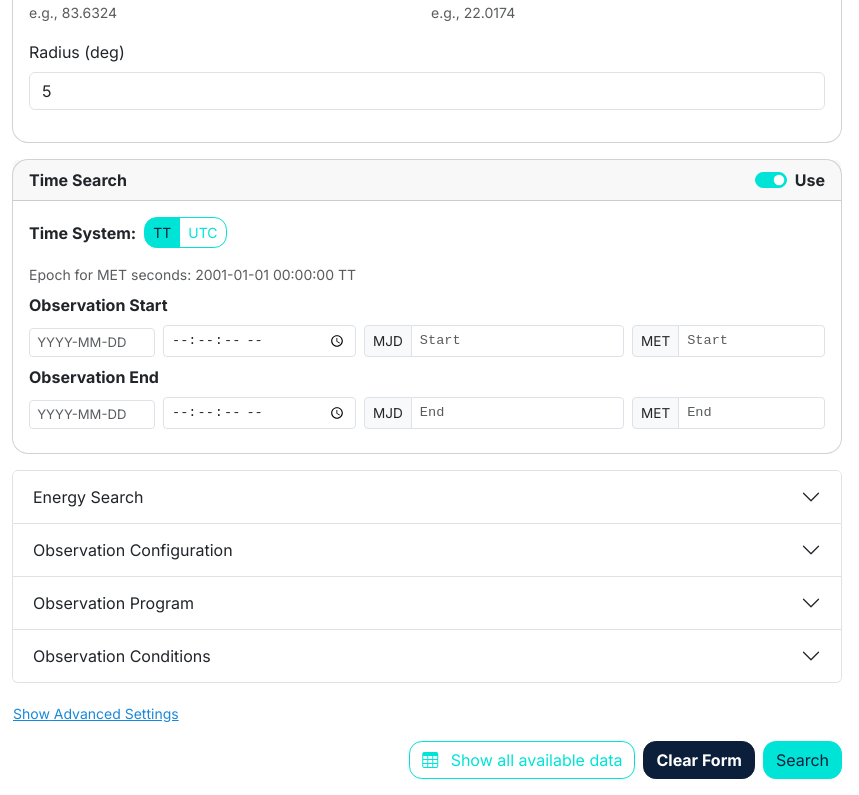
Test case: SearchForm › clear form resets TAP fields to backend configured defaults
(page scrolled)
Click the button "Show Advanced Settings".
click(96, 713)  # box [12,702,180,725]
(page scrolled)
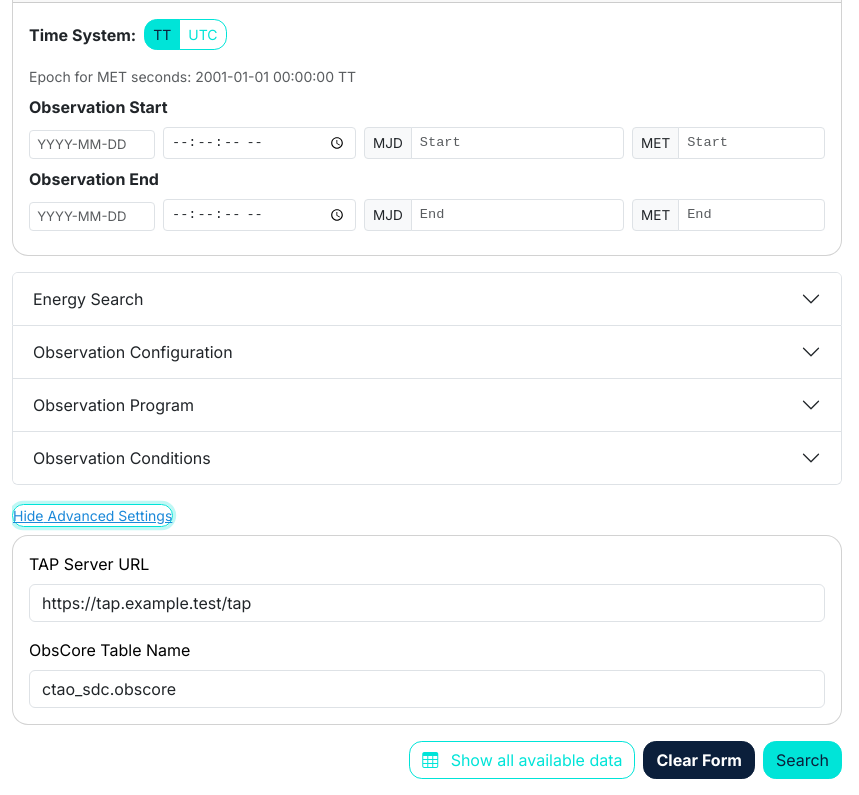
Result: the field labelled "TAP Server URL" holds "https://tap.example.test/tap"
Result: the field labelled "ObsCore Table Name" holds "ctao_sdc.obscore" at [29,670,825,708]
Replace the text in the field labelled "TAP Server URL" with "https://custom.example.test/tap" at coordinates (427, 603), box [29,584,825,622]
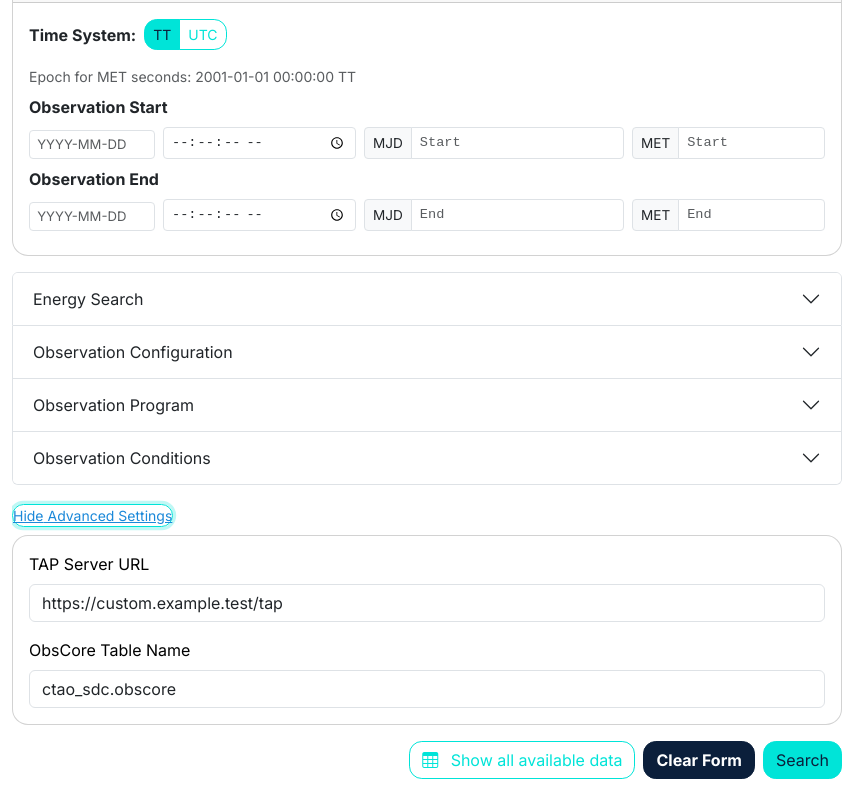
Replace the text in the field labelled "ObsCore Table Name" with "custom.obscore" at coordinates (427, 689), box [29,670,825,708]
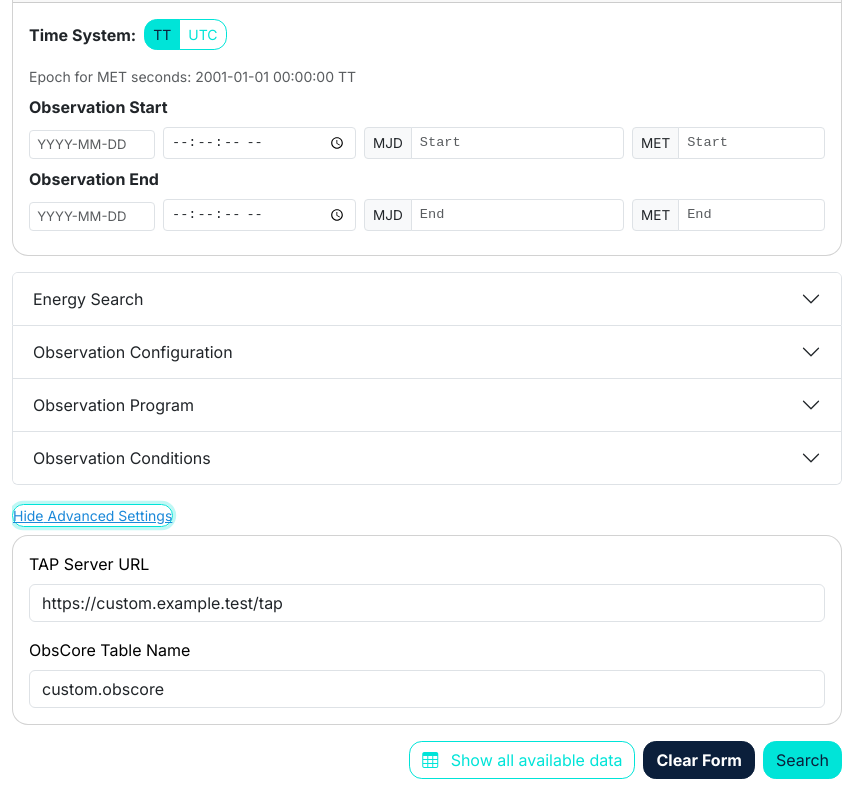
Click the button "Clear Form".
click(699, 760)  # box [644,741,755,779]
(page scrolled)
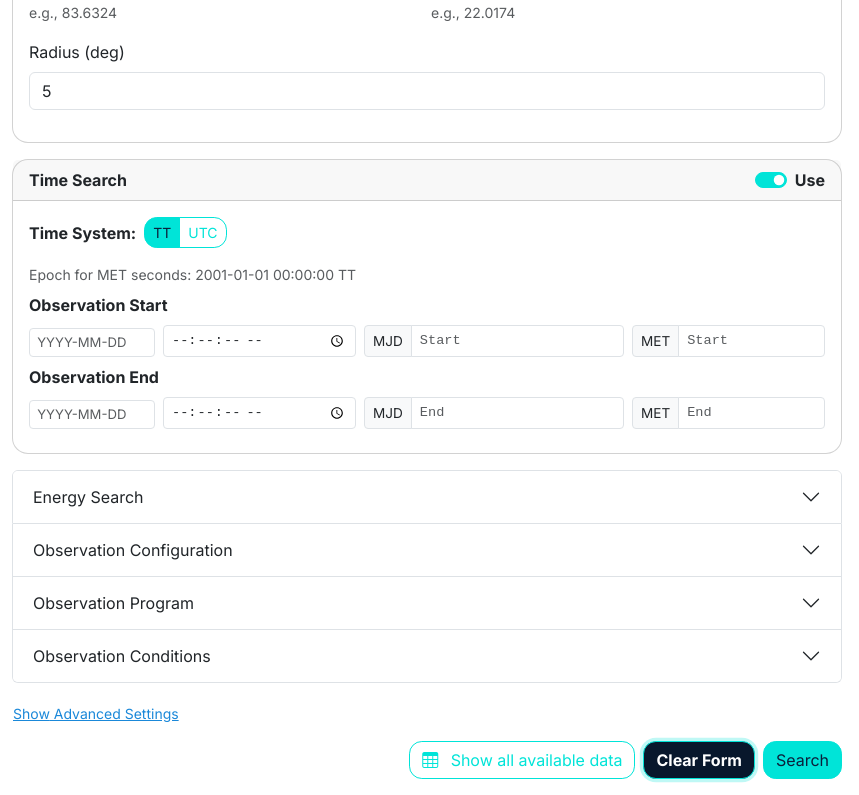
Click the button "Show Advanced Settings".
click(96, 713)  # box [12,702,180,725]
(page scrolled)
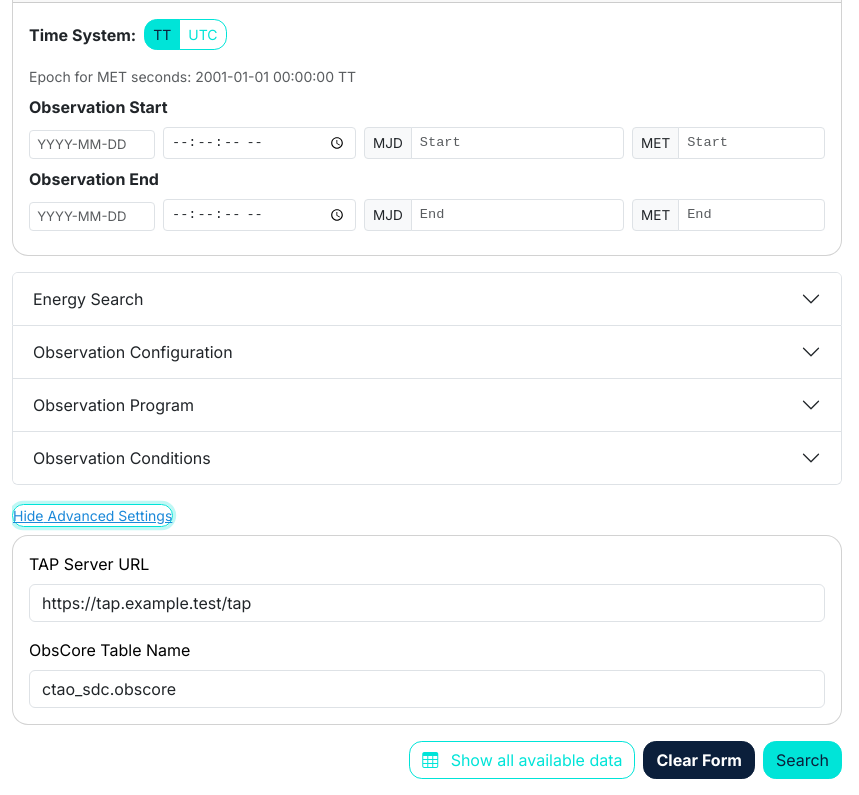
Result: the field labelled "TAP Server URL" holds "https://tap.example.test/tap" at [29,584,825,622]
Result: the field labelled "ObsCore Table Name" holds "ctao_sdc.obscore" at [29,670,825,708]
